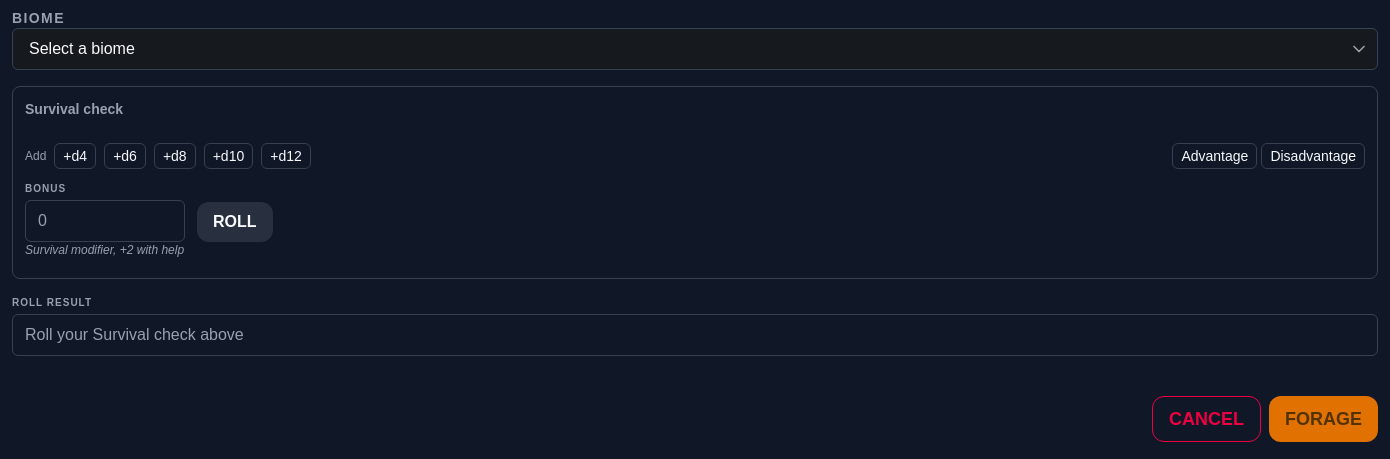
components/modals/go-foraging-modal/forage-biome › in Game mode › should ask for the Survival check before foraging
Click the button with test id "Dropdown__button": [82, 48] box x1=12 y1=28 x2=1378 y2=70
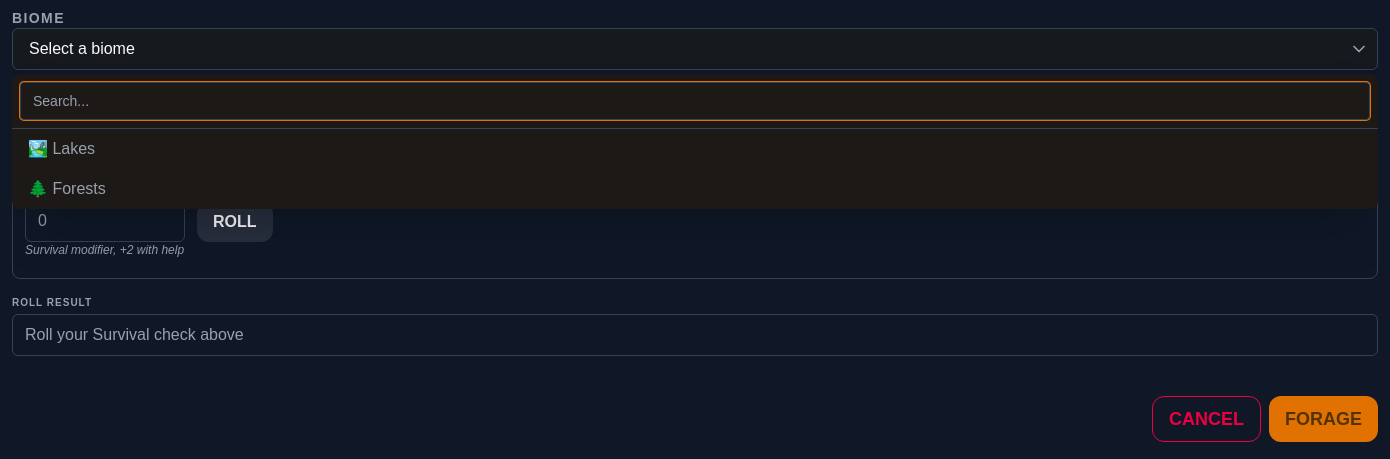
Click the button "🌲 Forests": [67, 188] box x1=12 y1=169 x2=1378 y2=209
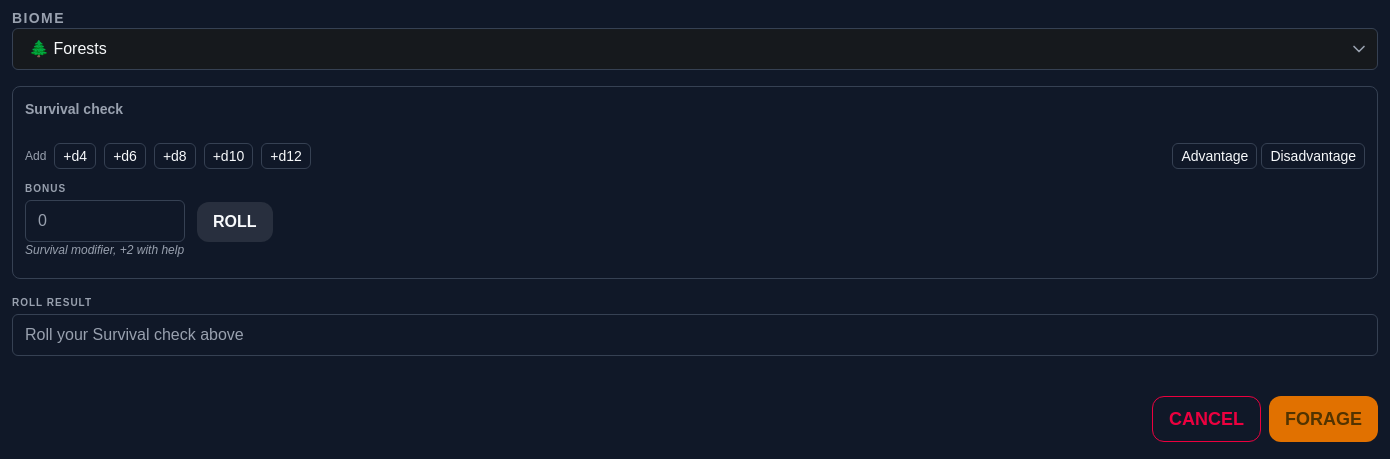
Click the button "Forage": [1324, 419] box x1=1269 y1=396 x2=1378 y2=442
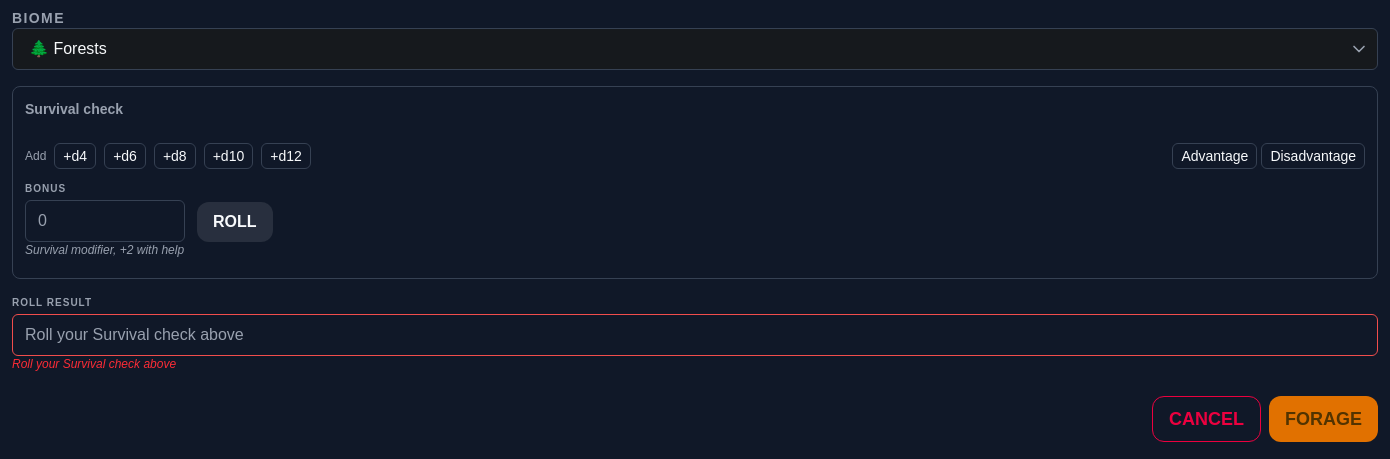
Check: the text "Roll your Survival check above" is shown, box x1=12 y1=357 x2=176 y2=371
